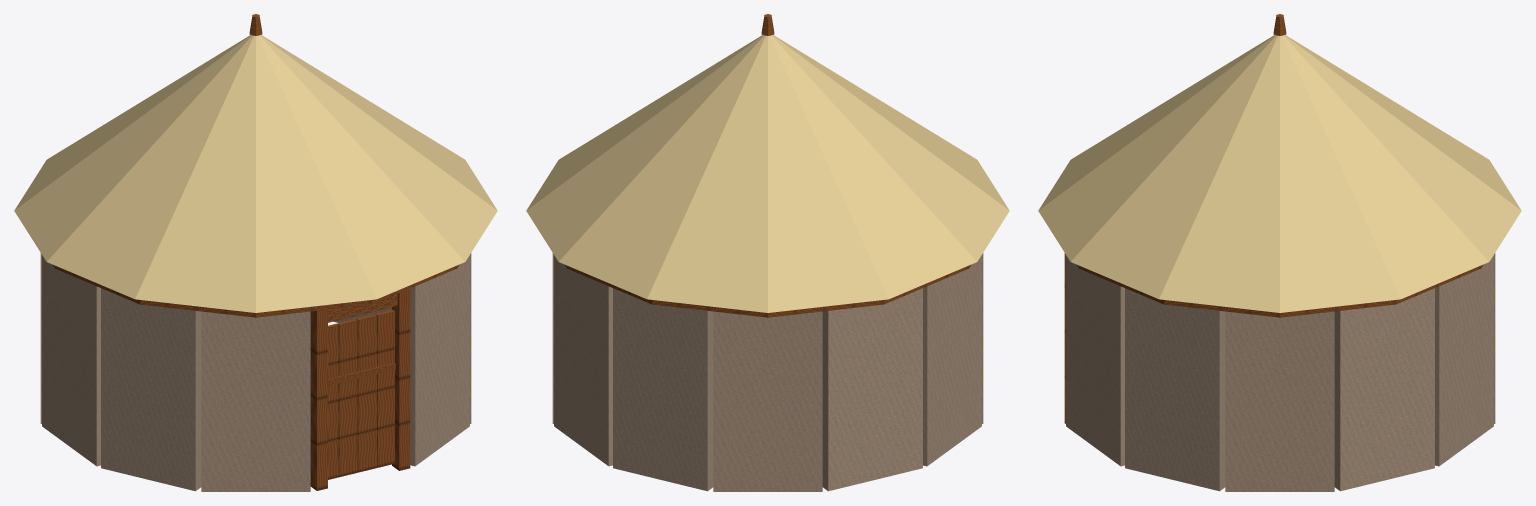
Rendered from safari-camp-and-bush-lodge-thatched-rondavel-large-f0488473__37675.glb.
3 renders of one model, left to right at view 1: azimuth 30°, elevation 25°; view 2: azimuth 150°, elevation 25°; view 3: azimuth 270°, elevation 25°, orthographic.
Visible parts, largest first — view 1: thatched-rondavel-large-thatch, thatched-rondavel-large-earth, door, thatched-rondavel-large-timber; view 2: thatched-rondavel-large-thatch, thatched-rondavel-large-earth, thatched-rondavel-large-timber; view 3: thatched-rondavel-large-thatch, thatched-rondavel-large-earth, thatched-rondavel-large-timber.
Part boxes in pixels (x1,y1,x2,y2): thatched-rondavel-large-thatch: [14, 35, 497, 312]; thatched-rondavel-large-earth: [40, 253, 471, 491]; door: [328, 310, 395, 479]; thatched-rondavel-large-timber: [52, 14, 459, 490]; thatched-rondavel-large-thatch: [526, 35, 1009, 312]; thatched-rondavel-large-earth: [552, 253, 983, 491]; thatched-rondavel-large-timber: [564, 14, 971, 317]; thatched-rondavel-large-thatch: [1038, 35, 1521, 312]; thatched-rondavel-large-earth: [1066, 253, 1495, 491]; thatched-rondavel-large-timber: [1064, 14, 1483, 423].
Size of the model in its own units: 6.04 by 5.31 by 6.04.
Materials: 3 (2 with a texture image).
